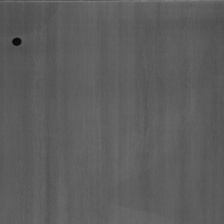punching_hole: (11, 34, 22, 48)
